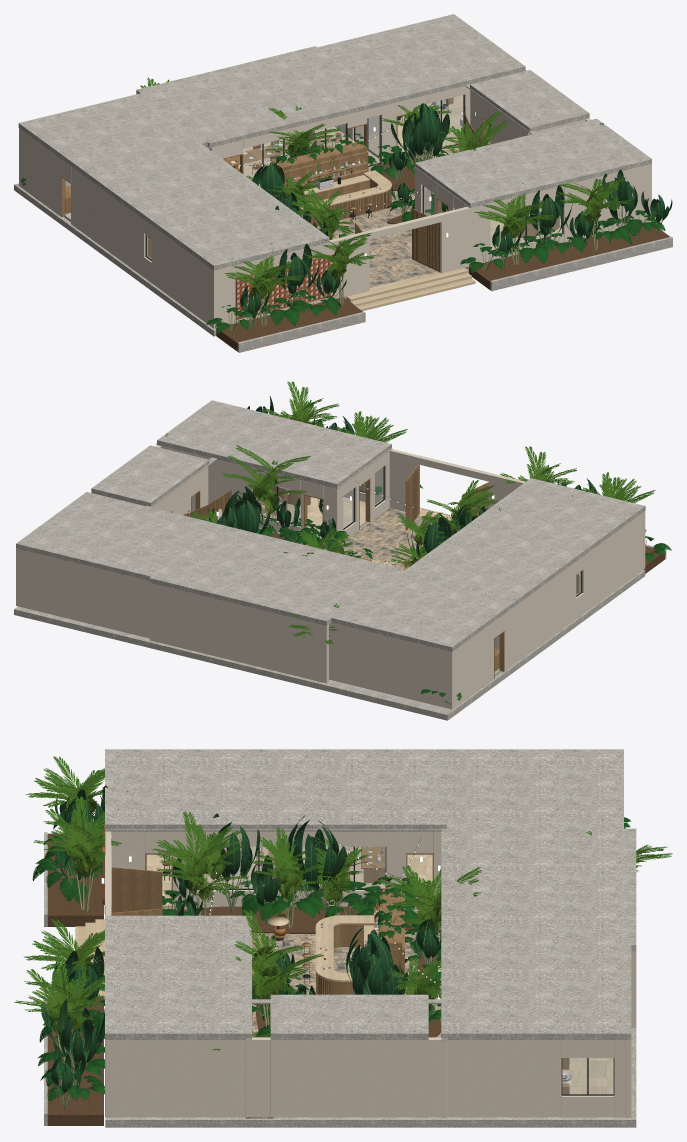
The model's file is casa-materia.glb.
The picture shows the model from 3 angles, top to bottom: view 1: azimuth 30°, elevation 25°; view 2: azimuth 150°, elevation 25°; view 3: azimuth 270°, elevation 25°; orthographic projection. The views are drawn at different scales.
Parts seen in each view (by area): view 1: roof_techos, bake_muros, bake_suelos, arch_base_casa, plant_frente_este_2, plant_frente_oeste_2, plant_frente_este_7, arch_cobogo_fachada, plant_entrada_2, arch_fachada_experiencias_vidrio1, plant_frente_oeste_7, plant_noreste_8 (+24 smaller); view 2: roof_techos, bake_muros, arch_base_casa, bake_suelos, plant_sureste_2, plant_frente_este_7, plant_noreste_8, plant_entrada_2, plant_frente_oeste_7, plant_frente_este_2, plant_frente_oeste_2, plant_oeste_10 (+4 smaller); view 3: roof_techos, bake_muros, bake_suelos, arch_base_casa, plant_entrada_2, plant_frente_oeste_7, plant_frente_este_7, plant_sureste_2, plant_bar_norte_1, plant_oeste_10, door_main_l, plant_oeste_12 (+21 smaller).
Part boxes in pixels (<box>): roof_techos: <box>18,14,651,270</box>; bake_muros: <box>19,70,651,328</box>; bake_suelos: <box>64,95,672,352</box>; arch_base_casa: <box>14,183,468,336</box>; plant_frente_este_2: <box>474,182,554,264</box>; plant_frente_oeste_2: <box>223,243,302,325</box>; plant_frente_este_7: <box>558,177,630,250</box>; arch_cobogo_fachada: <box>235,254,334,319</box>; plant_entrada_2: <box>284,189,353,239</box>; arch_fachada_experiencias_vidrio1: <box>243,124,345,185</box>; plant_frente_oeste_7: <box>303,232,376,305</box>; plant_noreste_8: <box>391,103,439,164</box>; roof_techos: <box>16,400,645,651</box>; bake_muros: <box>16,443,645,709</box>; arch_base_casa: <box>14,498,645,720</box>; bake_suelos: <box>256,483,666,676</box>; plant_sureste_2: <box>221,445,310,535</box>; plant_frente_este_7: <box>264,381,339,426</box>; plant_noreste_8: <box>224,486,270,534</box>; plant_entrada_2: <box>422,480,498,534</box>; plant_frente_oeste_7: <box>500,446,576,485</box>; plant_frente_este_2: <box>324,411,407,490</box>; plant_frente_oeste_2: <box>572,472,655,503</box>; plant_oeste_10: <box>407,513,456,557</box>; roof_techos: <box>105,749,636,1039</box>; bake_muros: <box>104,829,636,1117</box>; bake_suelos: <box>44,832,624,1125</box>; arch_base_casa: <box>105,836,636,1127</box>; plant_entrada_2: <box>151,811,248,915</box>; plant_frente_oeste_7: <box>33,795,121,911</box>; plant_frente_este_7: <box>14,955,104,1067</box>; plant_sureste_2: <box>234,909,323,1037</box>; plant_bar_norte_1: <box>377,865,481,963</box>; plant_oeste_10: <box>281,815,346,918</box>; door_main_l: <box>111,867,162,912</box>; plant_oeste_12: <box>250,827,323,929</box>.
Size of what is drawn, in the model's own units: 28.06 by 5.41 by 26.28.
Materials: 58 (32 with a texture image).
